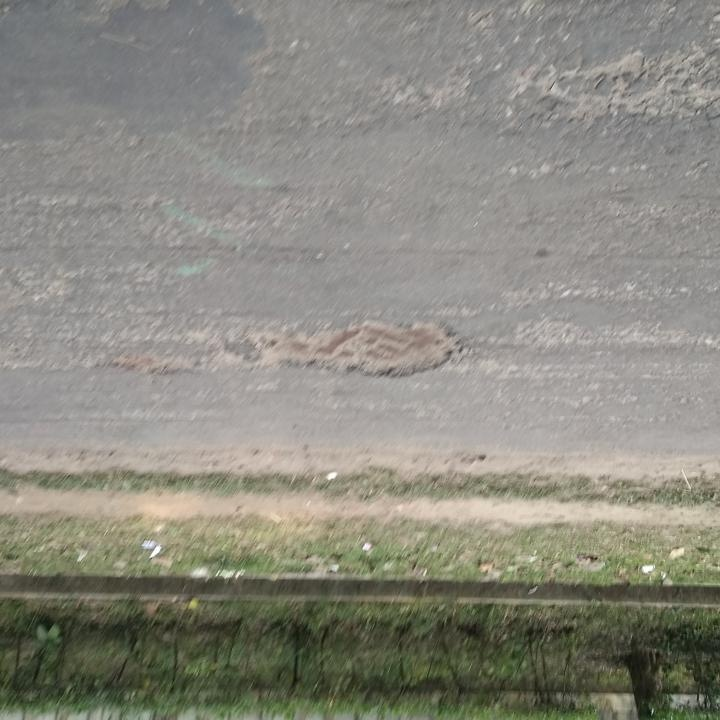pothole: (240, 310, 461, 381)
